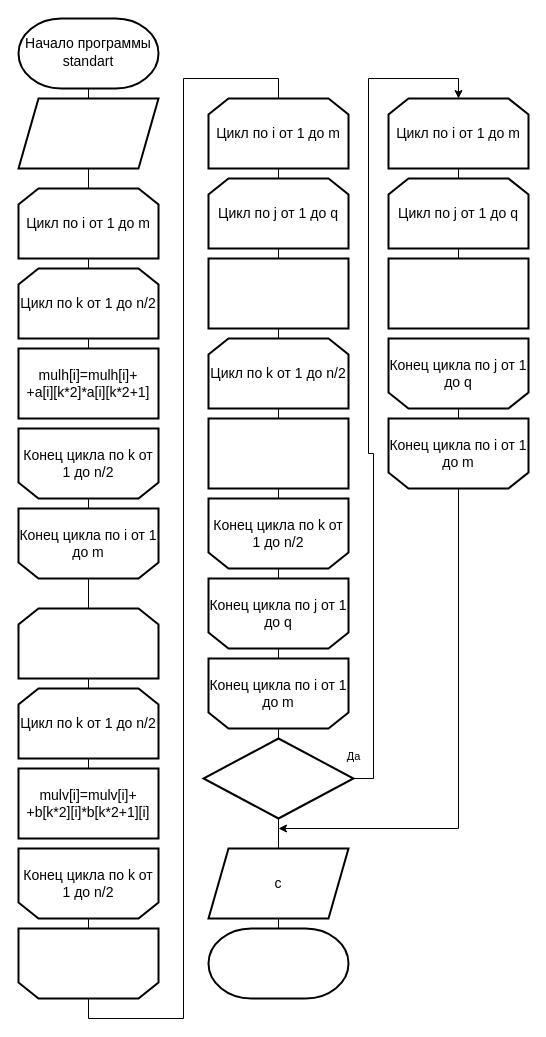
This 546x1037 diagram has some shape labels left out. Here are the shapes that lost their labels. From the top down, the centre of each, then its label:
At point (88, 133): "a, b, c, m, n, q".
At point (278, 293): "c[i][j]=-mulh[i]-mulv[j]".
At point (458, 293): "c[i][j]=c[i][j]+ +a[i][n-1]*b[n-1][j]".
At point (278, 453): "c[i][j]=c[i][j]+ (a[i][k*2]+b[2*k+1][j])* (a[i][2*k+1]+b[2*k][j]".
At point (88, 643): "Цикл по i от 1 до q".
At point (278, 778): "n%2==1?".
At point (88, 963): "Конец цикла по i от 1 до q".
At point (278, 963): "Конец программы standart".
